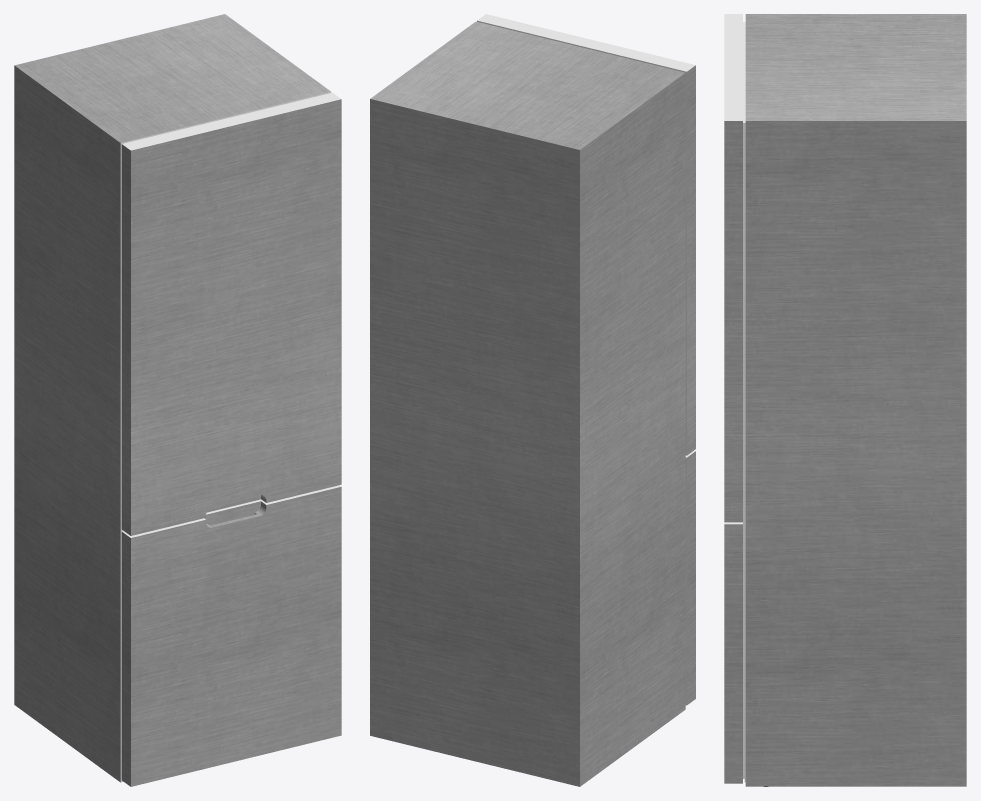
File: Holodilnic.glb
The picture shows the model from 3 angles, left to right: view 1: azimuth 30°, elevation 25°; view 2: azimuth 150°, elevation 25°; view 3: azimuth 270°, elevation 25°; orthographic projection. The views are drawn at different scales.
Visible parts, largest first — view 1: group_0, group_0.002, group_0.001, group_0.003; view 2: group_0, group_0.003, group_0.002, group_0.001; view 3: group_0, group_0.002, group_0.001, group_0.003.
Part boxes in pixels (<box>): group_0: <box>14,14,330,782</box>; group_0.002: <box>121,99,341,535</box>; group_0.001: <box>121,486,341,786</box>; group_0.003: <box>120,92,340,782</box>; group_0: <box>370,21,685,786</box>; group_0.003: <box>477,14,695,705</box>; group_0.002: <box>687,65,695,455</box>; group_0.001: <box>687,451,695,704</box>; group_0: <box>745,14,966,786</box>; group_0.002: <box>724,121,742,522</box>; group_0.001: <box>724,524,742,783</box>; group_0.003: <box>724,14,745,782</box>.
Size of the model in its own units: 0.7 by 2.04 by 0.67.
Materials: 3 (1 with a texture image).
